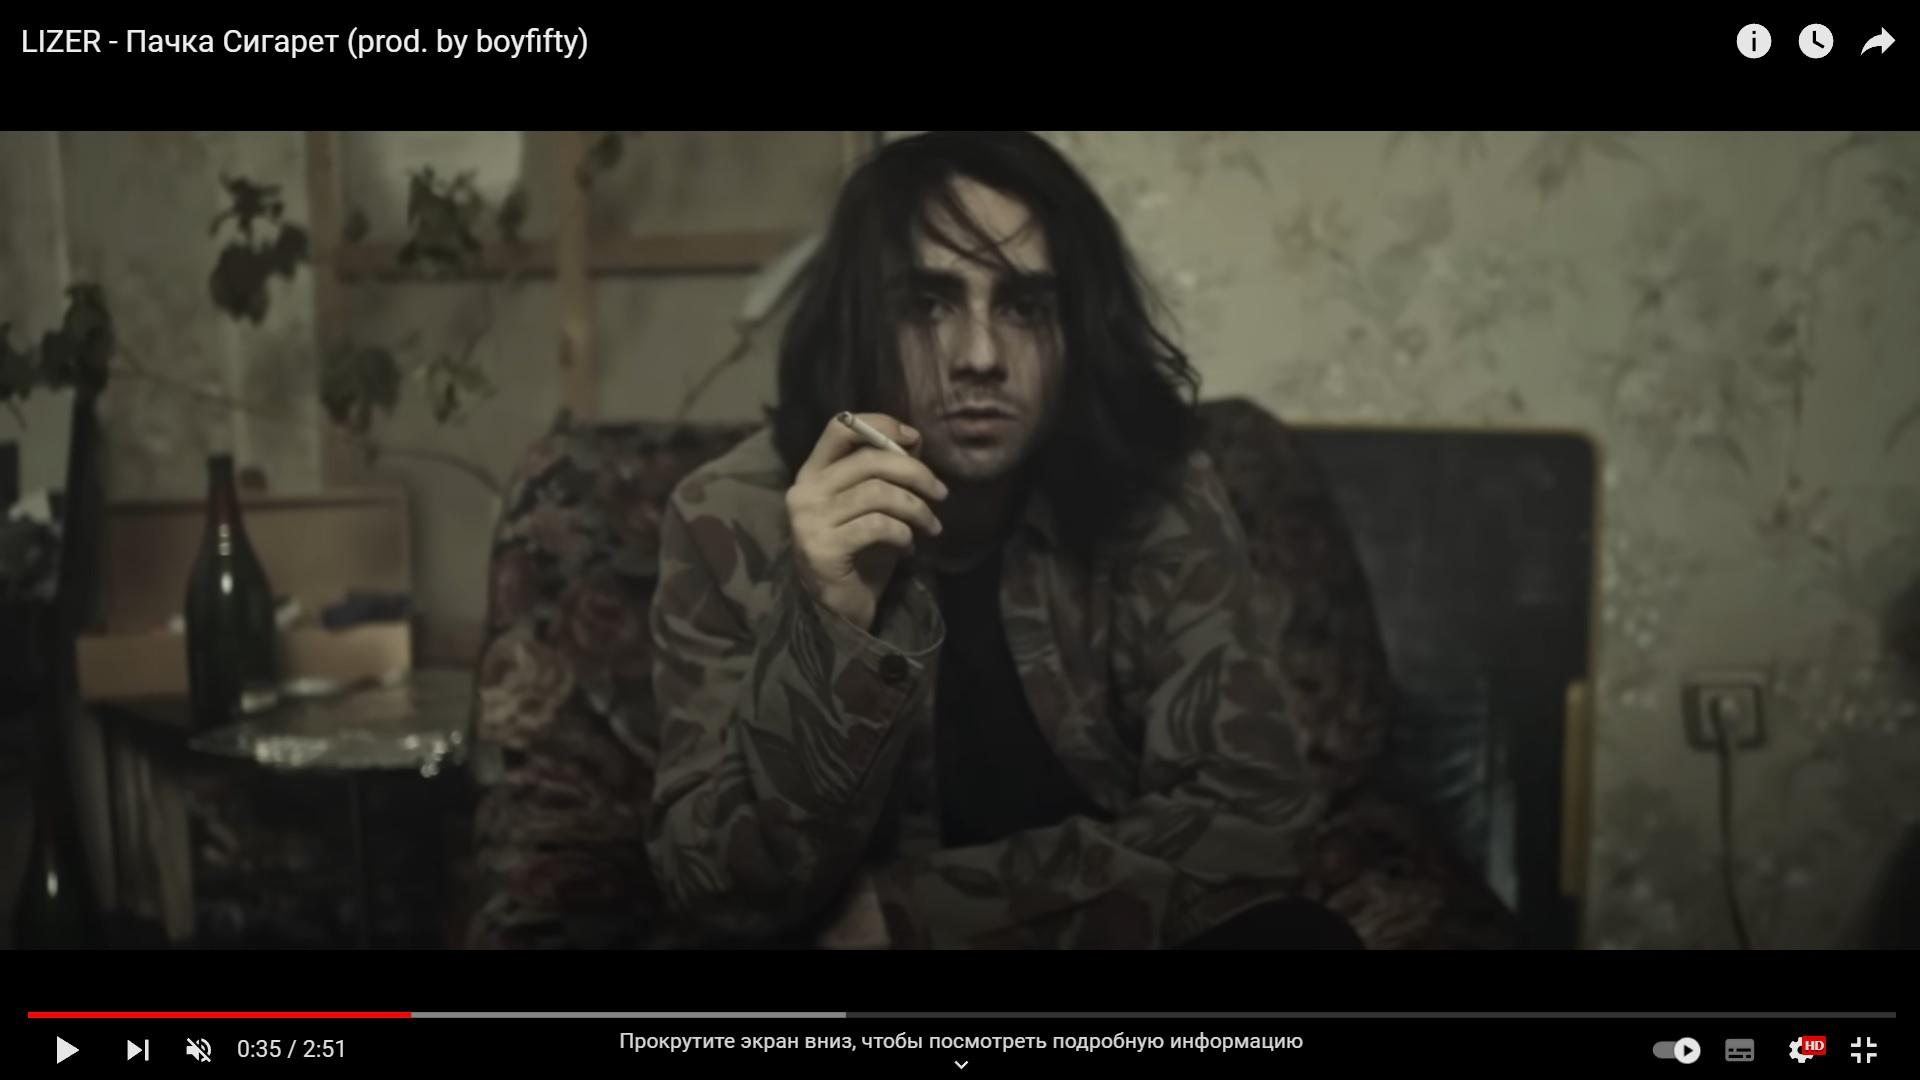cigarette: (836, 409, 907, 458)
